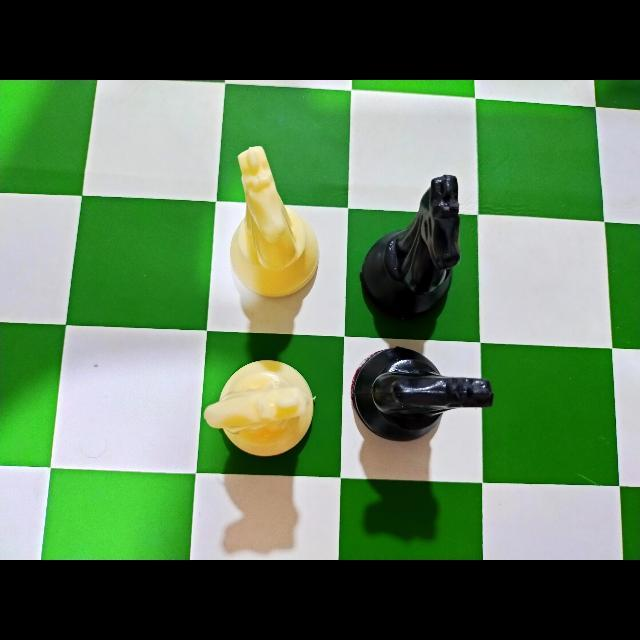black-knight: (357, 173, 461, 314), (350, 345, 495, 444)
white-knight: (228, 145, 319, 298), (204, 358, 316, 458)
